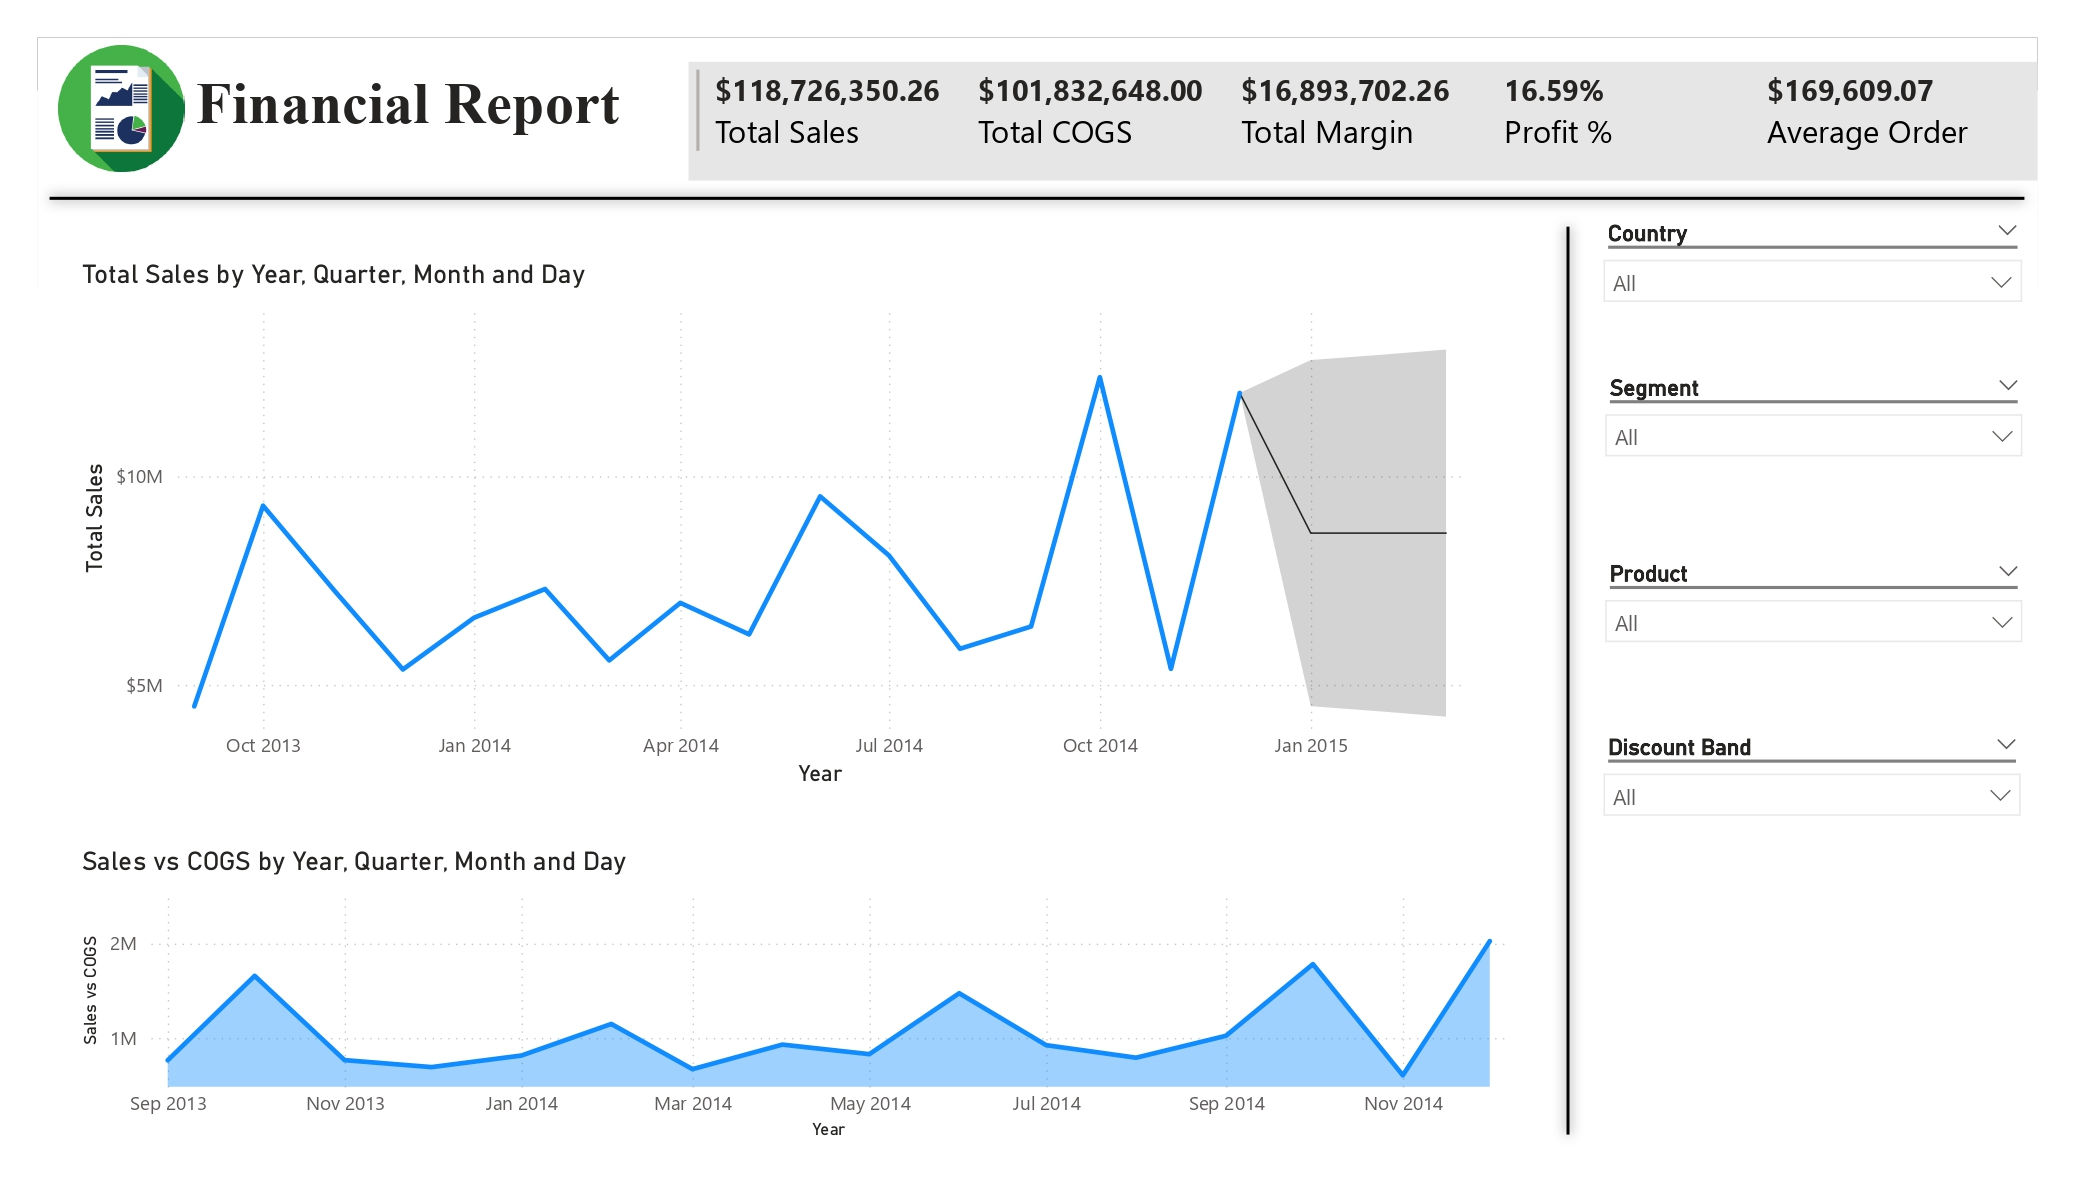

What the dashboard file says about the page in this screenshot:
{"tool":"powerbi","page":{"name":"Duplicate of Financial Report","canvas":[1280,720],"ordinal":1},"visuals":[{"type":"textbox","box":[97,15,328,280],"z":0},{"type":"image","box":[0,0,107,91],"z":1000},{"type":"multiRowCard","fields":{"Values":["All Measures.Total Sales","All Measures.Total COGS","All Measures.Total Margin","All Measures.Profit %","All Measures.Average Order"]},"box":[416.2,15,863.8,76.2],"z":2000},{"type":"shape","box":[0,64,1280,77],"z":3000},{"type":"slicer","fields":{"Values":["financials.Country"]},"box":[992.5,112.5,287.5,86.2],"z":5000},{"type":"slicer","fields":{"Values":["financials.Segment"]},"box":[993,211,287,83],"z":13000},{"type":"slicer","fields":{"Values":["financials.Product"]},"box":[993,330,287,109],"z":14000},{"type":"slicer","fields":{"Values":["financials.Discount Band"]},"box":[992,441,287,86],"z":15000},{"type":"shape","box":[837.1,112.9,285.7,597.1],"z":16000},{"type":"areaChart","fields":{"Category":["Date Table.Date.Variation.Date Hierarchy.Year","Date Table.Date.Variation.Date Hierarchy.Quarter","Date Table.Date.Variation.Date Hierarchy.Month","Date Table.Date.Variation.Date Hierarchy.Day"],"Y":["All Measures.Sales vs COGS"]},"box":[22.9,517.1,937.1,192.9],"z":16001},{"type":"lineChart","fields":{"Category":["Date Table.Date.Variation.Date Hierarchy.Year","Date Table.Date.Variation.Date Hierarchy.Quarter","Date Table.Date.Variation.Date Hierarchy.Month","Date Table.Date.Variation.Date Hierarchy.Day"],"Y":["All Measures.Total Sales"]},"box":[22.9,141.4,907.1,342.9],"z":16002}]}

Visuals, with their boxes in screenshot pixels (x1, y1, x2, y2):
textbox: [189, 61, 702, 498]
image: [38, 38, 205, 180]
multiRowCard - All Measures.Total Sales x All Measures.Total COGS: [688, 61, 2038, 180]
shape: [38, 138, 2038, 258]
slicer - financials.Country: [1588, 213, 2038, 348]
slicer - financials.Segment: [1589, 367, 2038, 497]
slicer - financials.Product: [1589, 553, 2038, 723]
slicer - financials.Discount Band: [1588, 727, 2036, 861]
shape: [1345, 214, 1792, 1147]
areaChart - Date Table.Date.Variation.Date Hierarchy.Year x Date Table.Date.Variation.Date Hierarchy.Quarter: [73, 845, 1538, 1147]
lineChart - Date Table.Date.Variation.Date Hierarchy.Year x Date Table.Date.Variation.Date Hierarchy.Quarter: [73, 258, 1491, 794]
